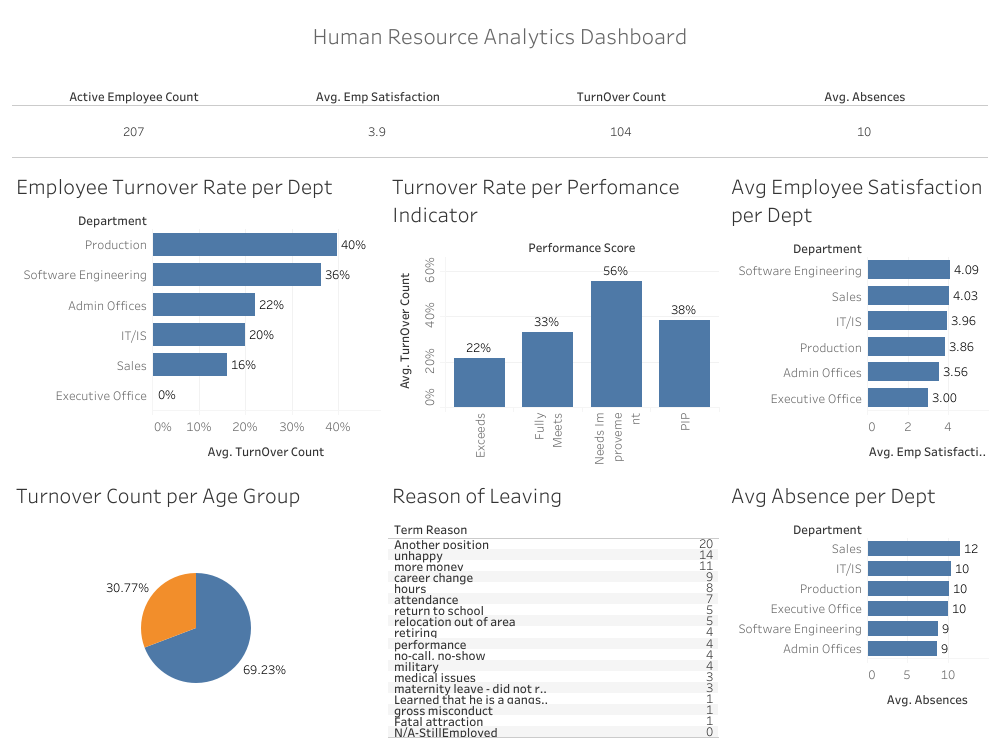

The dashboard page shown, as its layout file describes it:
{"tool":"tableau","page":{"name":"Human Resource Analytics Dashboard","canvas":[1000,750],"ordinal":0},"visuals":[{"type":"text","box":[8,8,984,52.5]},{"type":"worksheet","title":"HR Overview","mark":"Automatic","box":[8,60.5,984,101.5]},{"type":"worksheet","title":"Employee Turnover Rate per Dept","mark":"Automatic","rows":["Department"],"cols":["Calculation_1024005996881772545"],"box":[8,162,376,309]},{"type":"worksheet","title":"Turnover Rate per Perfomance Indicator","mark":"Automatic","rows":["Calculation_1024005996881772545"],"cols":["PerformanceScore"],"box":[384,162,339,309]},{"type":"worksheet","title":"Avg Employee Satisfaction per Dept","mark":"Automatic","rows":["Department"],"cols":["EmpSatisfaction"],"box":[723,162,269,309]},{"type":"worksheet","title":"Turnover Count per Age Group","mark":"Pie","box":[8,471,376,271]},{"type":"worksheet","title":"Reason of Leaving","mark":"Automatic","rows":["TermReason"],"box":[384,471,339,271]},{"type":"worksheet","title":"Avg Absence per Dept","mark":"Automatic","rows":["Department"],"cols":["Absences"],"box":[723,471,269,271]}]}

Visuals, with their boxes in screenshot pixels (x1, y1, x2, y2), scaled from the page's 1000x750 canvas onto the 999x749 screenshot:
text: x1=8 y1=8 x2=991 y2=60
"HR Overview" worksheet: x1=8 y1=60 x2=991 y2=162
"Employee Turnover Rate per Dept" worksheet: x1=8 y1=162 x2=384 y2=470
"Turnover Rate per Perfomance Indicator" worksheet: x1=384 y1=162 x2=722 y2=470
"Avg Employee Satisfaction per Dept" worksheet: x1=722 y1=162 x2=991 y2=470
"Turnover Count per Age Group" worksheet (Pie marks): x1=8 y1=470 x2=384 y2=741
"Reason of Leaving" worksheet: x1=384 y1=470 x2=722 y2=741
"Avg Absence per Dept" worksheet: x1=722 y1=470 x2=991 y2=741
